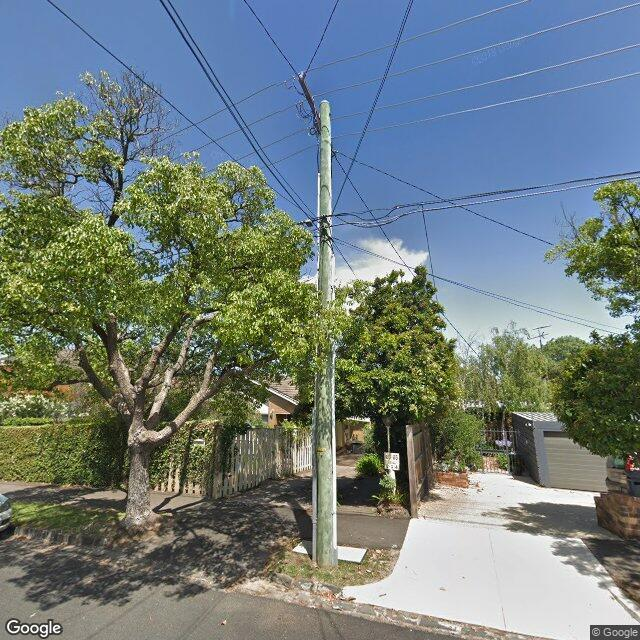crossarm: (298, 73, 334, 155)
timber-pole: (312, 100, 338, 568)
